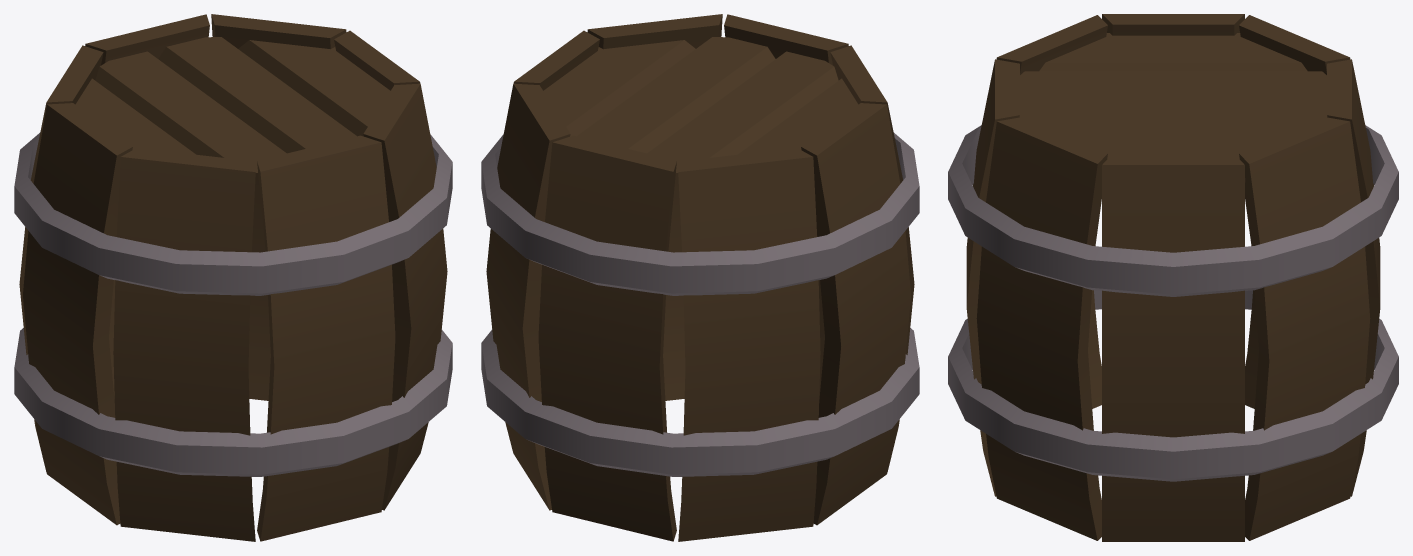
File: barrel.glb
The picture shows the model from 3 angles, left to right: view 1: azimuth 30°, elevation 25°; view 2: azimuth 150°, elevation 25°; view 3: azimuth 270°, elevation 25°; orthographic projection.
Visible parts, largest first — view 1: Prop_Barrel; view 2: Prop_Barrel; view 3: Prop_Barrel.
Part boxes in pixels (x1,y1,x2,y2): Prop_Barrel: (14, 14, 452, 541); Prop_Barrel: (481, 14, 919, 541); Prop_Barrel: (948, 14, 1398, 541).
Bounding box in the file's own units: 0.7147 × 0.6599 × 0.7147.
